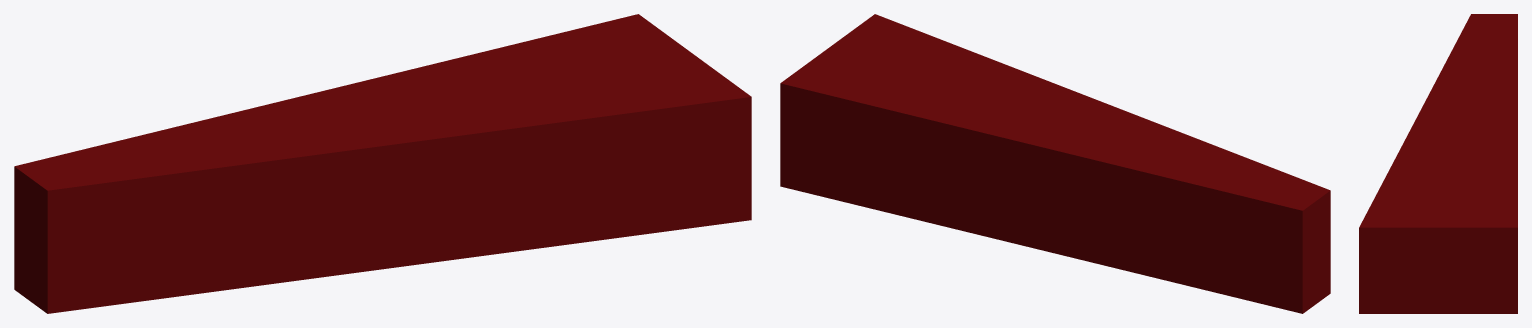
Rendered from Reception desk.fbx.
The picture shows the model from 3 angles, left to right: view 1: azimuth 30°, elevation 25°; view 2: azimuth 150°, elevation 25°; view 3: azimuth 270°, elevation 25°; orthographic projection. The views are drawn at different scales.
Parts seen in each view (by area): view 1: Cube.002; view 2: Cube.002; view 3: Cube.002.
Part boxes in pixels (<box>): Cube.002: <box>14,14,751,313</box>; Cube.002: <box>780,14,1330,313</box>; Cube.002: <box>1359,14,1517,313</box>.
Bounding box in the file's own units: 800 × 151 × 251.
